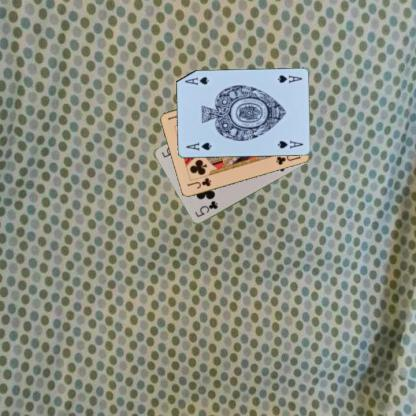5c: (192, 198, 218, 219)
As: (183, 140, 212, 152), (275, 72, 303, 84)
Jc: (184, 175, 212, 190)
